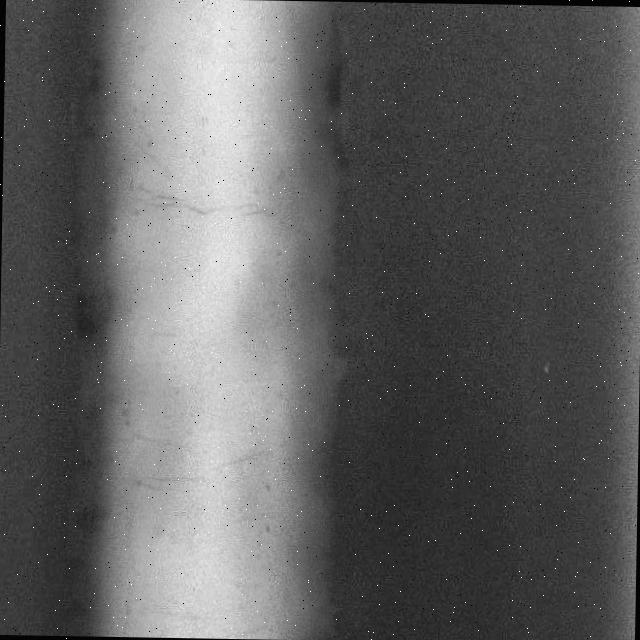Crack: (109, 403, 279, 502), (120, 152, 294, 235)
